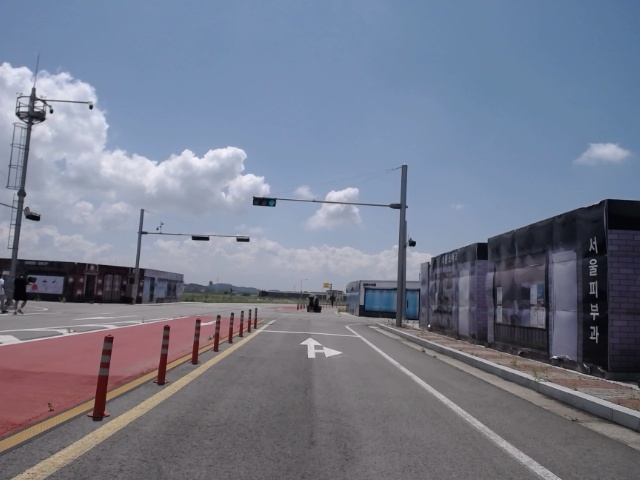green_3: (253, 197, 277, 206)
